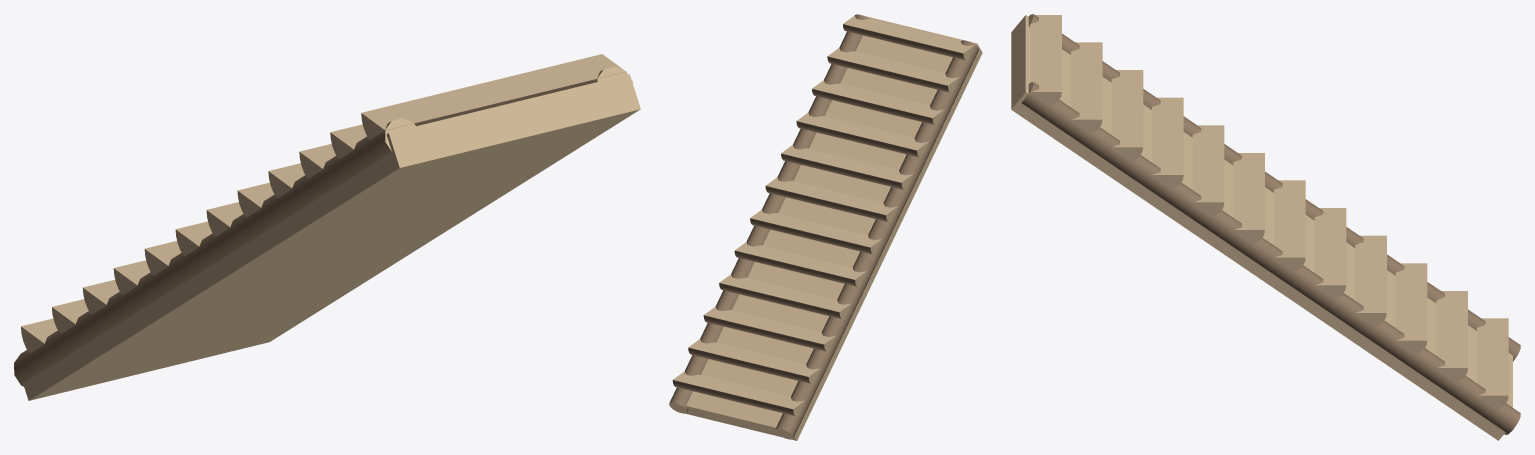
File: log_stairs.glb
The picture shows the model from 3 angles, left to right: view 1: azimuth 30°, elevation 25°; view 2: azimuth 150°, elevation 25°; view 3: azimuth 270°, elevation 25°; orthographic projection. The views are drawn at different scales.
Parts seen in each view (by area): view 1: Col_Ramp, Stairs; view 2: Stairs, Col_Ramp; view 3: Stairs, Col_Ramp.
Boxes of the visible parts, left/top/right/bottom form: Col_Ramp: left=23, top=74, right=640, bottom=400; Stairs: left=14, top=54, right=632, bottom=386; Stairs: left=669, top=14, right=978, bottom=439; Col_Ramp: left=685, top=14, right=982, bottom=440; Stairs: left=1021, top=14, right=1520, bottom=434; Col_Ramp: left=1011, top=15, right=1512, bottom=440.
Bounding box in the file's own units: 1.54 × 3.19 × 4.18.
